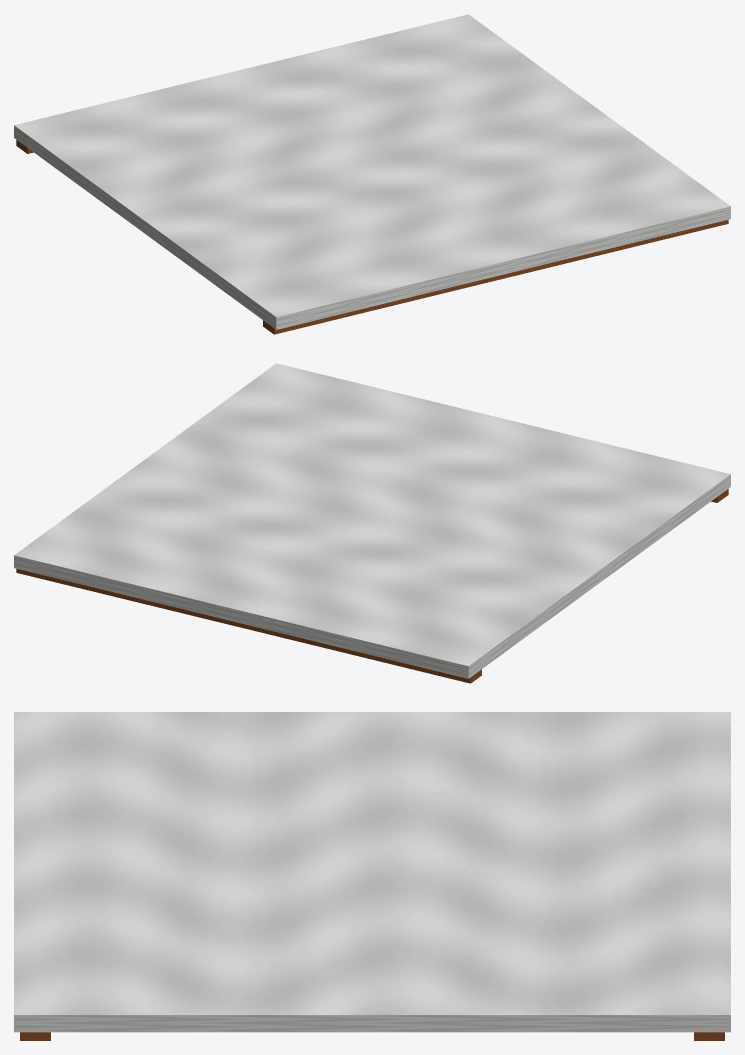
Rendered from cruise-ship-deck-and-lounge-cruise-ship-deck-and-loung-4dfaf1b9__38461.glb.
3 views of the same model, one above another, from view 1: azimuth 30°, elevation 25°; view 2: azimuth 150°, elevation 25°; view 3: azimuth 270°, elevation 25° (orthographic). The views are drawn at different scales.
Parts seen in each view (by area): view 1: cruise-ship-deck-and-lounge-lounge-ceiling-panel; view 2: cruise-ship-deck-and-lounge-lounge-ceiling-panel; view 3: cruise-ship-deck-and-lounge-lounge-ceiling-panel.
Boxes of the visible parts, x1,y1,x2,y2 form: cruise-ship-deck-and-lounge-lounge-ceiling-panel: (14, 14, 730, 334); cruise-ship-deck-and-lounge-lounge-ceiling-panel: (14, 363, 730, 683); cruise-ship-deck-and-lounge-lounge-ceiling-panel: (14, 712, 730, 1040).
Bounding box in the file's own units: 6 × 0.2599 × 6.
3 materials, 2 textured.
